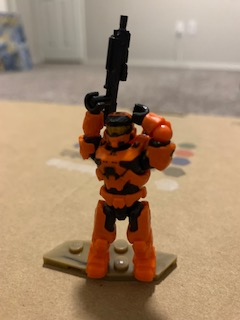rifle: (87, 15, 133, 116)
spartan: (75, 89, 176, 282)
up: (74, 89, 177, 195)
